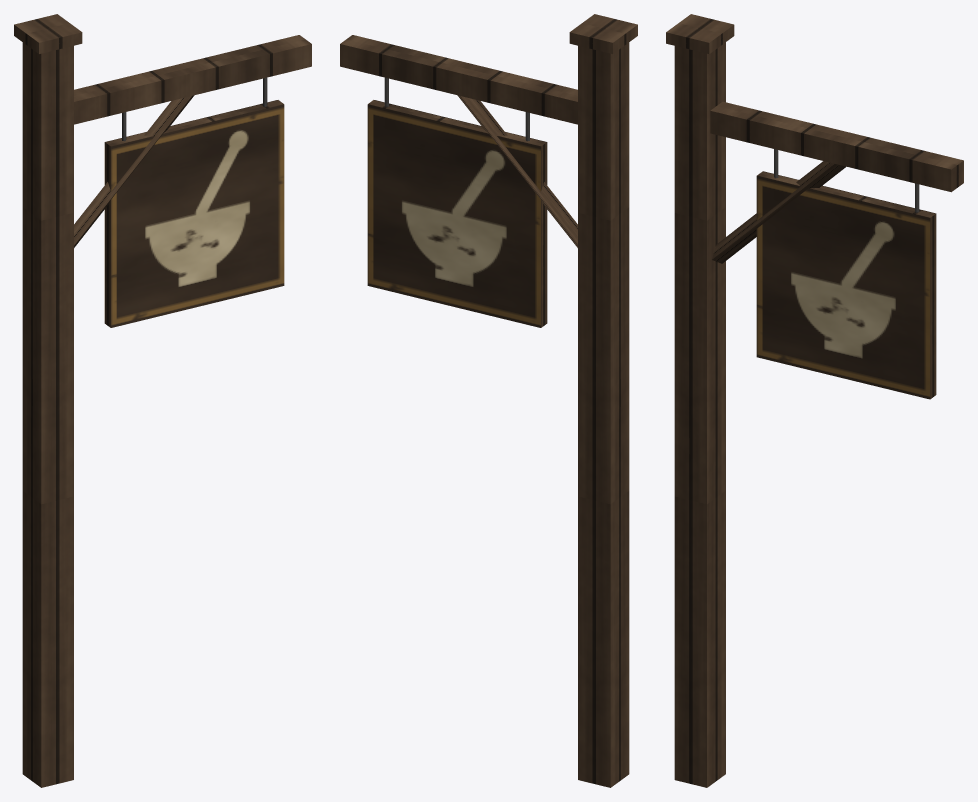
Rendered from Sign_Service_infirmerie_LOD1.gltf.
3 renders of one model, left to right at view 1: azimuth 30°, elevation 25°; view 2: azimuth 150°, elevation 25°; view 3: azimuth 330°, elevation 25°, orthographic.
Parts seen in each view (by area): view 1: Sign_Service_infirmerie_LOD1; view 2: Sign_Service_infirmerie_LOD1; view 3: Sign_Service_infirmerie_LOD1.
Part boxes in pixels (x1=…): Sign_Service_infirmerie_LOD1: x1=14, y1=14, x2=311, y2=787; Sign_Service_infirmerie_LOD1: x1=340, y1=14, x2=637, y2=787; Sign_Service_infirmerie_LOD1: x1=666, y1=14, x2=963, y2=787.
Bounding box in the file's own units: 1.03 × 2.64 × 0.16.
3 materials, 3 textured.
